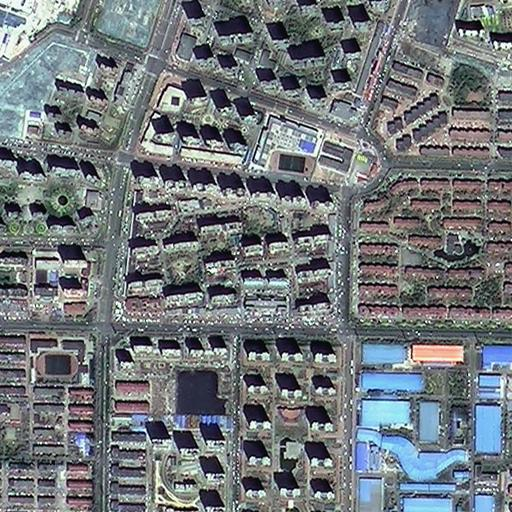school: (242, 111, 323, 179), (25, 331, 97, 384)
